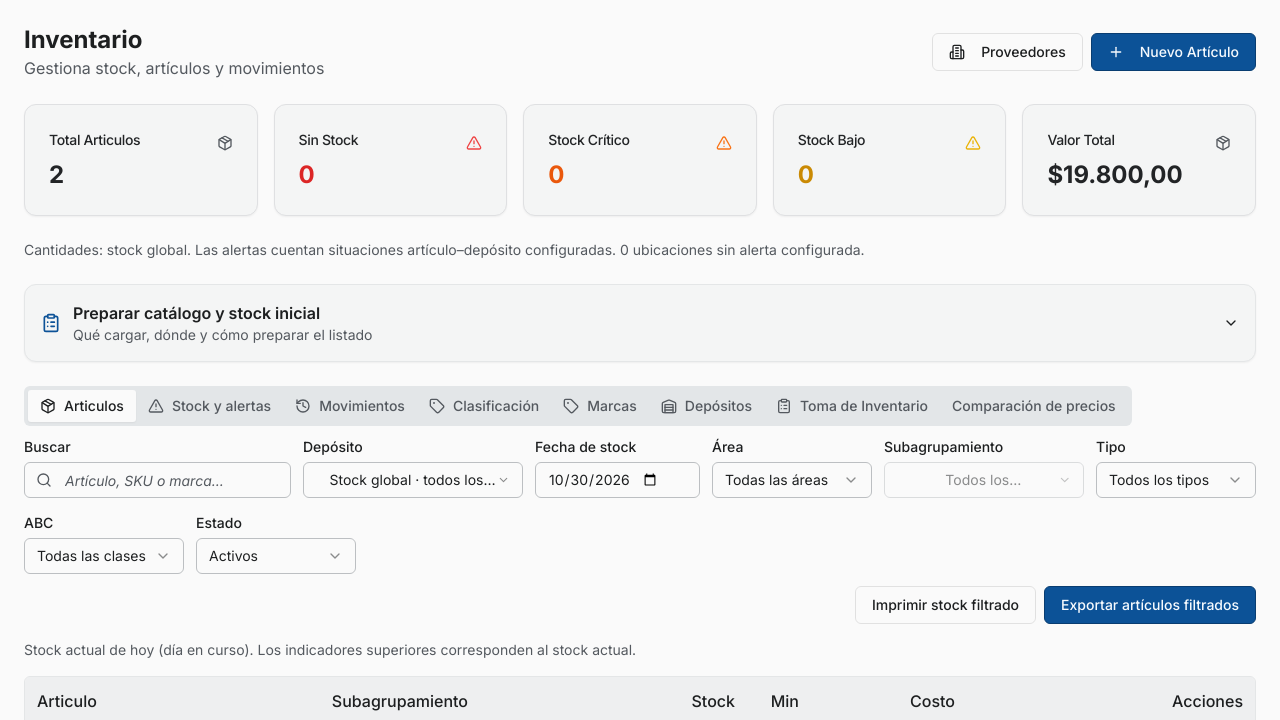
Scenario: un fallo histórico no muestra saldos actuales y bloquea imprimir/exportar
In the date field named "Fecha de stock": (618, 480) [535,462,700,498], type "2026-10-05"
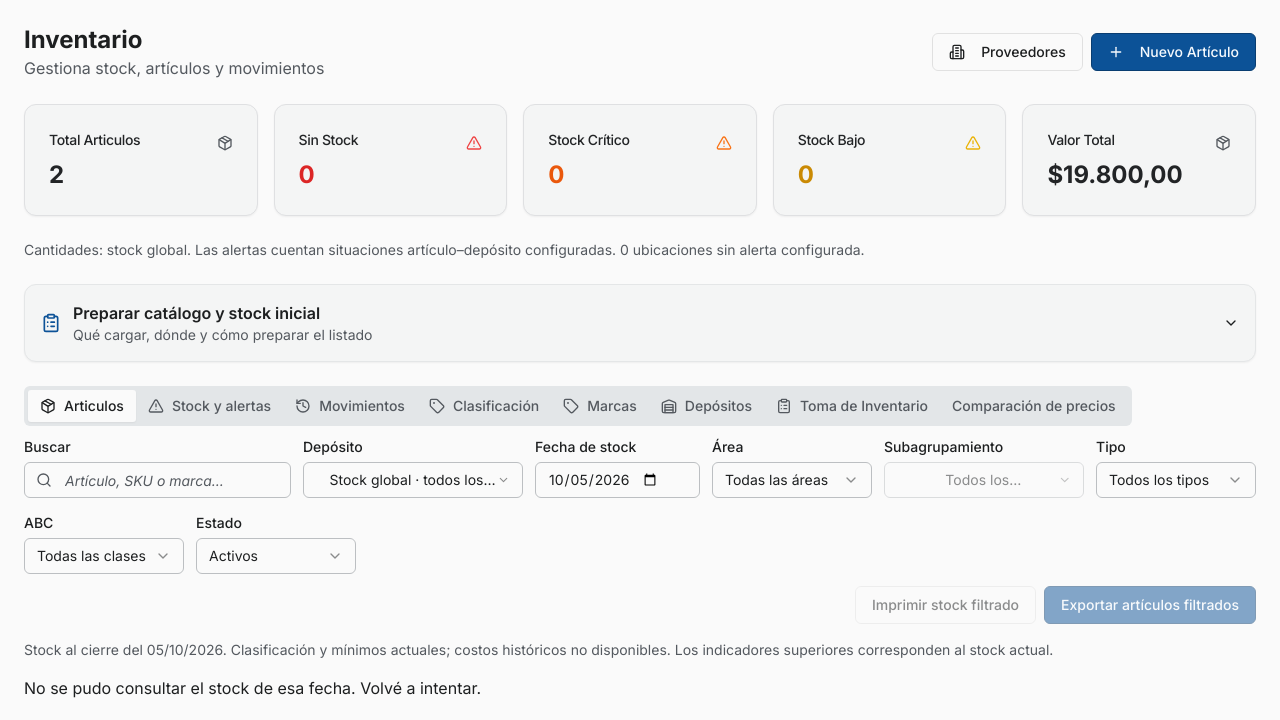
Now the message "No se pudo consultar el stock de esa fecha. Volvé a intentar." is shown, box [24,678,481,698]
Now the button "Imprimir stock filtrado" is disabled, box [855,586,1036,624]
Now the button "Exportar artículos filtrados" is disabled, box [1044,586,1256,624]
